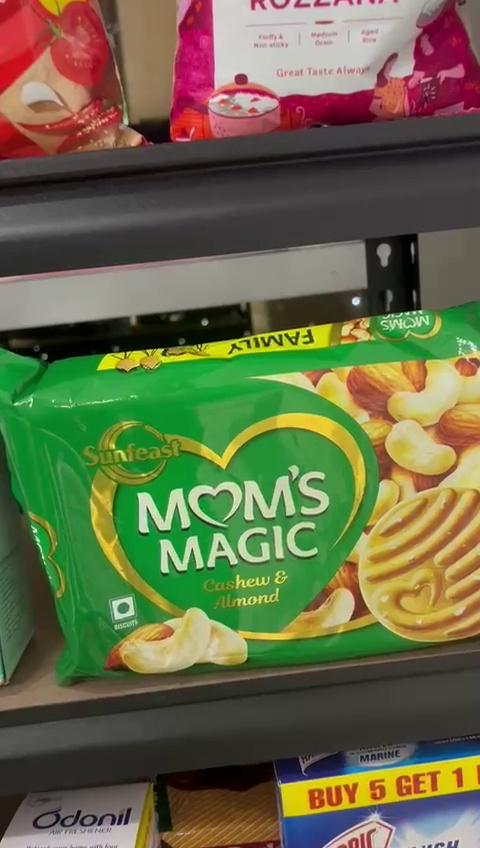Moms magic: (15, 358, 480, 666)
